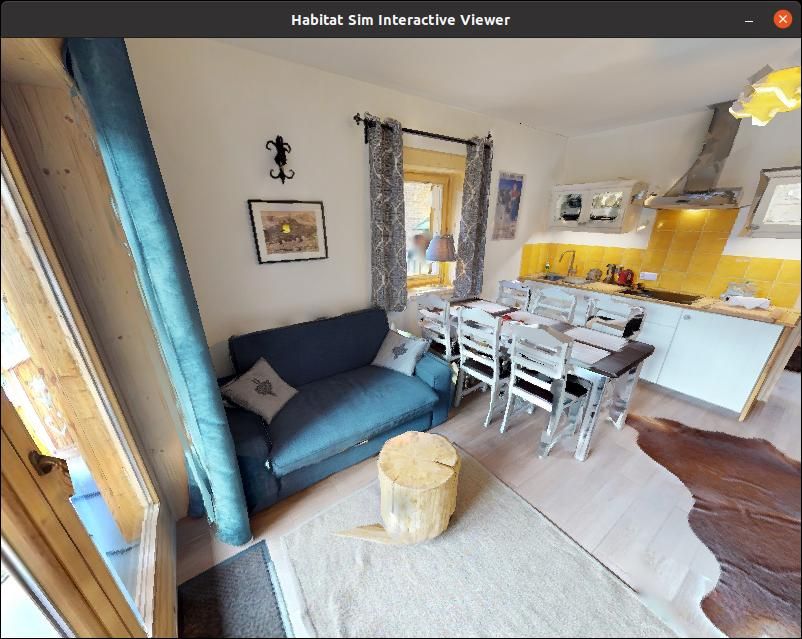chair: (499, 313, 593, 459), (447, 293, 513, 427)
sofa: (199, 317, 465, 480)
table: (442, 262, 671, 475)
